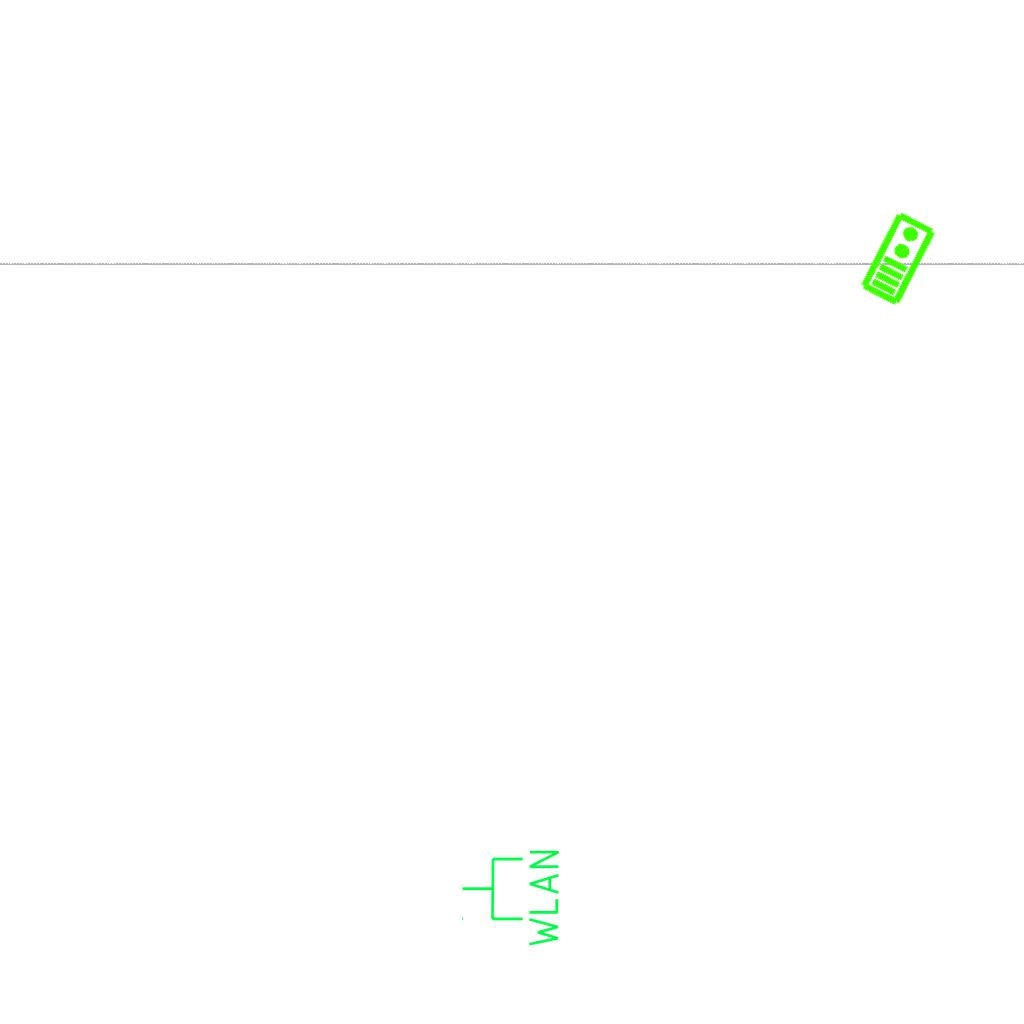Gegensprechanlage_mit_Video: (856, 208, 939, 308)
WLAN: (459, 846, 563, 951)
